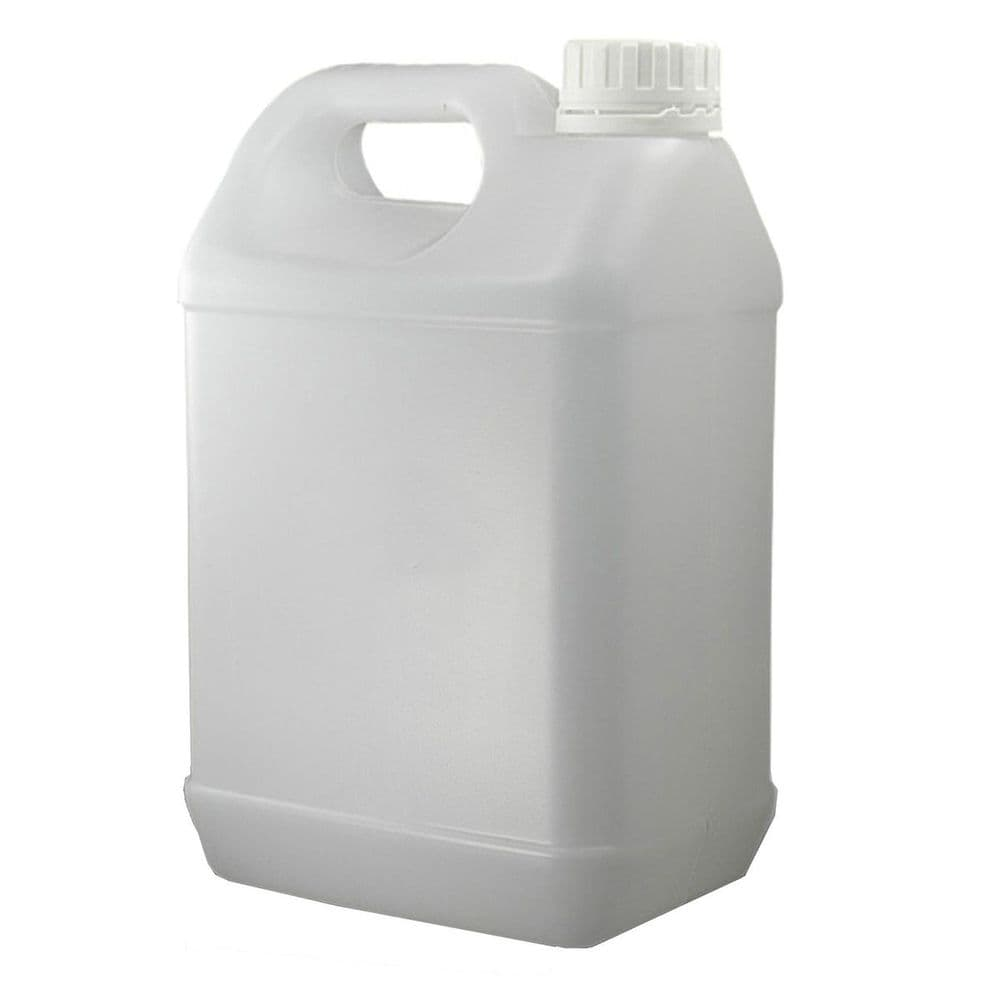plastic: (170, 34, 789, 954)
